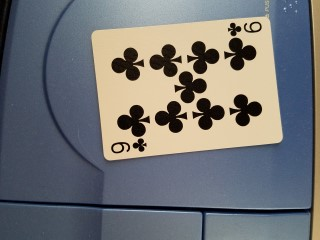NineOfClubs: (91, 17, 283, 162)
